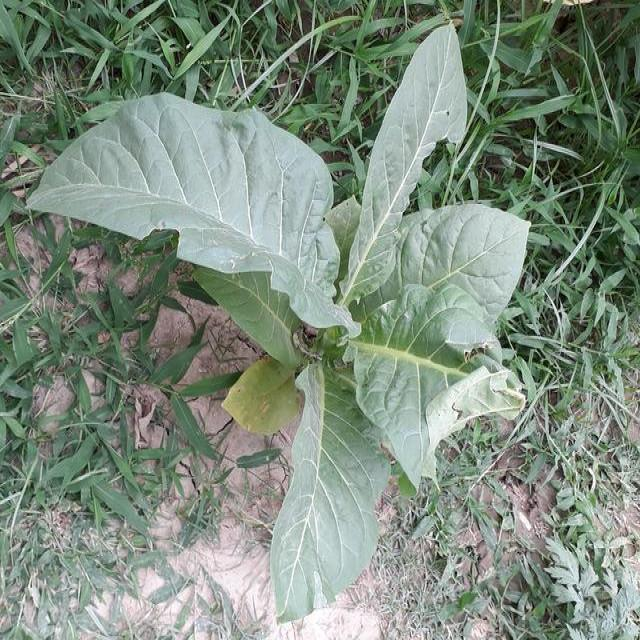crop: (45, 26, 528, 607)
